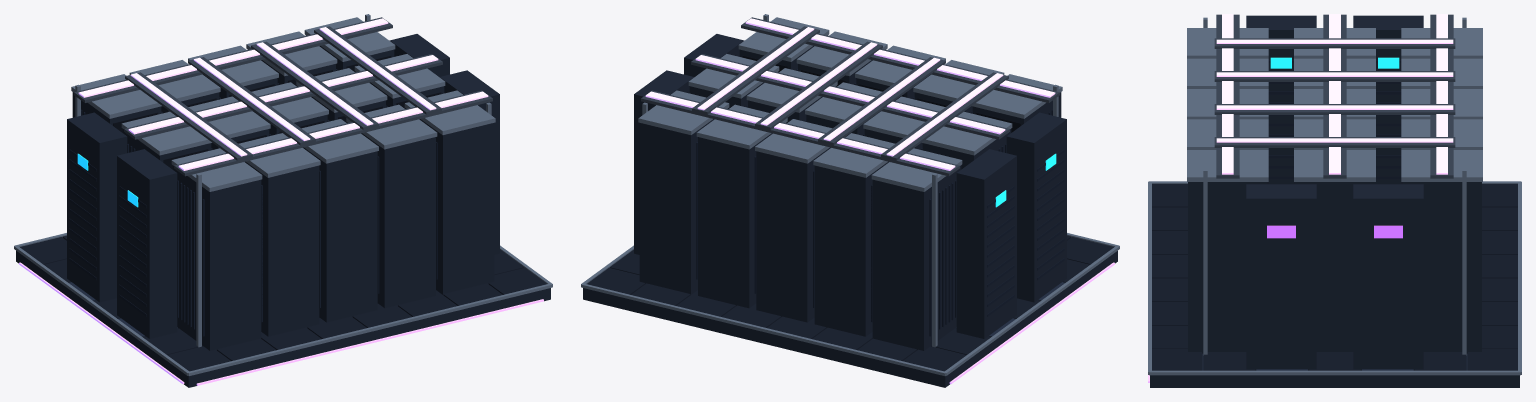
The model's file is cloud.glb.
3 renders of one model, left to right at view 1: azimuth 30°, elevation 25°; view 2: azimuth 150°, elevation 25°; view 3: azimuth 270°, elevation 25°, orthographic. The views are drawn at different scales.
Visible parts, largest first — view 1: DatacenterPlatform, Rack_R1_0, OverheadUtilityInfrastructure, Rack_R1_1, Rack_R1_2, Rack_R1_4, Rack_R1_3, CRAC_Unit_1, CRAC_Unit_0, Rack_R2_0, Rack_R3_0, PDU_Cabinet_1 (+16 smaller); view 2: DatacenterPlatform, Rack_R3_0, OverheadUtilityInfrastructure, Rack_R3_1, Rack_R3_2, Rack_R3_4, Rack_R3_3, CRAC_Unit_0, CRAC_Unit_1, Rack_R2_0, Rack_R1_0, PDU_Cabinet_0 (+16 smaller); view 3: DatacenterPlatform, OverheadUtilityInfrastructure, PDU_Cabinet_0, PDU_Cabinet_1, Rack_R1_4, Rack_R3_4, Rack_R2_4, CRAC_Unit_0, CRAC_Unit_1, Rack_R1_0, Rack_R3_0, Rack_R1_3 (+18 smaller).
Boxes of the visible parts, <box> form: DatacenterPlatform: <box>14,233,552,387</box>; Rack_R1_0: <box>171,148,262,350</box>; OverheadUtilityInfrastructure: <box>74,14,492,347</box>; Rack_R1_1: <box>238,133,320,336</box>; Rack_R1_2: <box>301,119,378,322</box>; Rack_R1_4: <box>404,90,495,294</box>; Rack_R1_3: <box>346,104,437,308</box>; CRAC_Unit_1: <box>117,149,177,338</box>; CRAC_Unit_0: <box>67,112,127,302</box>; Rack_R2_0: <box>121,111,211,169</box>; Rack_R3_0: <box>71,74,161,132</box>; PDU_Cabinet_1: <box>439,70,499,254</box>; DatacenterPlatform: <box>581,233,1119,387</box>; Rack_R3_0: <box>871,148,962,350</box>; OverheadUtilityInfrastructure: <box>641,14,1059,347</box>; Rack_R3_1: <box>813,133,895,336</box>; Rack_R3_2: <box>755,119,832,322</box>; Rack_R3_4: <box>638,90,729,294</box>; Rack_R3_3: <box>696,104,787,308</box>; CRAC_Unit_0: <box>956,149,1016,338</box>; CRAC_Unit_1: <box>1006,112,1066,302</box>; Rack_R2_0: <box>922,111,1012,169</box>; Rack_R1_0: <box>972,74,1062,132</box>; PDU_Cabinet_0: <box>634,70,694,254</box>; DatacenterPlatform: <box>1148,181,1521,387</box>; OverheadUtilityInfrastructure: <box>1203,14,1466,355</box>; PDU_Cabinet_0: <box>1353,184,1423,370</box>; PDU_Cabinet_1: <box>1246,184,1316,370</box>; Rack_R1_4: <box>1187,150,1268,353</box>; Rack_R3_4: <box>1401,150,1482,353</box>; Rack_R2_4: <box>1294,150,1375,351</box>; CRAC_Unit_0: <box>1353,15,1423,184</box>; CRAC_Unit_1: <box>1246,15,1316,184</box>; Rack_R1_0: <box>1187,28,1268,58</box>; Rack_R3_0: <box>1401,28,1482,58</box>; Rack_R1_3: <box>1187,119,1268,149</box>.
Size of the model in its own units: 4.64 by 2.3 by 3.84.
